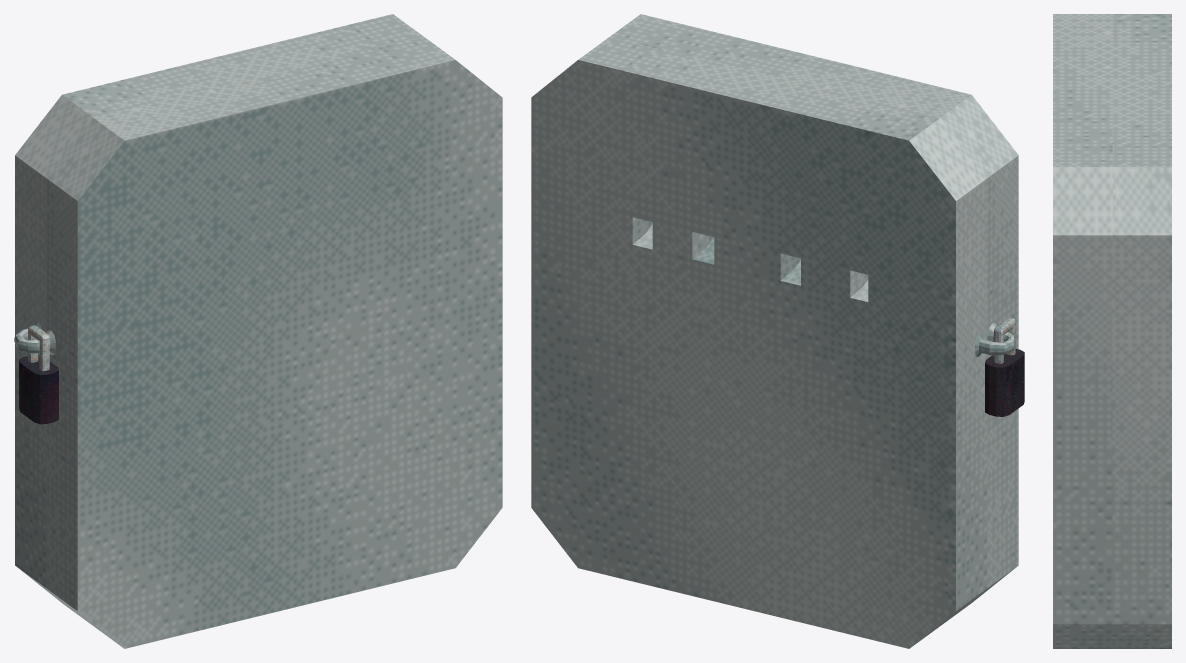
The model's file is key_box.glb.
3 renders of one model, left to right at view 1: azimuth 30°, elevation 25°; view 2: azimuth 150°, elevation 25°; view 3: azimuth 270°, elevation 25°, orthographic. The views are drawn at different scales.
Visible parts, largest first — view 1: Cube.001, Cube, Cube.005, Cube.004; view 2: Cube, Cube.001, Cube.005; view 3: Cube.001, Cube.
Boxes of the visible parts, x1,y1,x2,y2 form: Cube.001: [14, 37, 502, 648]; Cube: [15, 14, 423, 623]; Cube.005: [19, 355, 58, 424]; Cube.004: [28, 325, 49, 371]; Cube: [531, 37, 987, 648]; Cube.001: [610, 14, 1018, 624]; Cube.005: [985, 348, 1024, 416]; Cube.001: [1053, 14, 1112, 648]; Cube: [1112, 14, 1171, 648].
Size of the model in its own units: 1.48 by 1.59 by 0.3557.
Materials: 3 (3 with a texture image).
